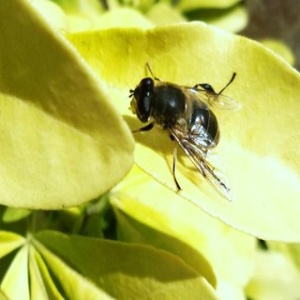bee: (129, 62, 245, 196)
